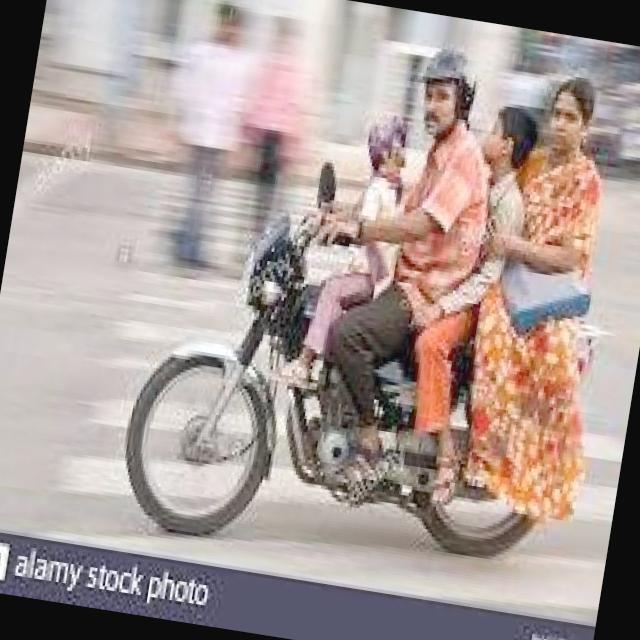motorcycle: (105, 191, 614, 601)
person: (456, 70, 622, 491), (360, 42, 502, 410), (266, 105, 419, 412), (423, 94, 545, 392)
rider_region: (108, 14, 631, 592)
